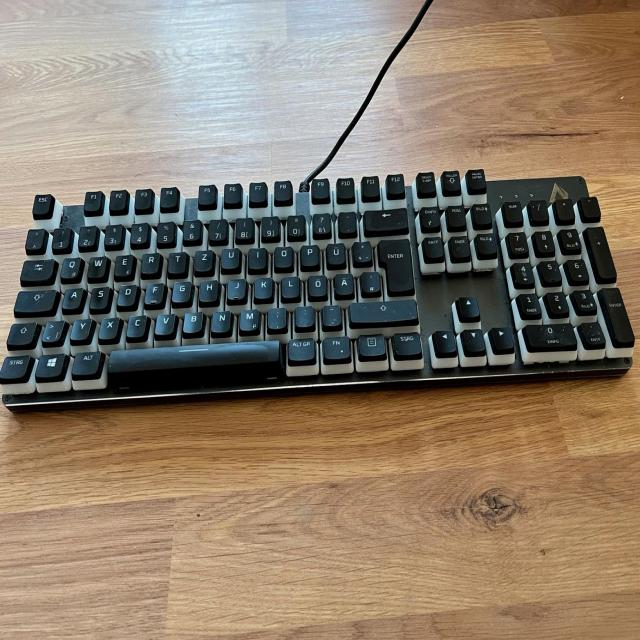0: (285, 213, 306, 239)
1: (50, 225, 71, 250)
2: (77, 224, 98, 248)
3: (103, 222, 124, 247)
4: (129, 221, 149, 245)
5: (155, 220, 175, 245)
6: (181, 218, 202, 242)
7: (207, 217, 228, 241)
8: (234, 215, 254, 242)
9: (260, 214, 281, 240)
a: (60, 284, 84, 310)
accent: (337, 210, 356, 233)
ae: (333, 271, 354, 296)
alt-left: (70, 348, 103, 377)
altgr-right: (286, 335, 316, 362)
b: (182, 310, 204, 333)
c: (125, 313, 148, 337)
caret: (24, 226, 45, 251)
comma: (267, 305, 287, 329)
d: (116, 282, 137, 306)
del: (362, 207, 408, 232)
e: (113, 253, 135, 277)
enter: (375, 235, 414, 293)
f: (143, 280, 164, 304)
g: (171, 279, 192, 302)
h: (198, 277, 219, 302)
hash: (359, 269, 380, 294)
i: (247, 246, 267, 269)
j: (226, 276, 246, 300)
k: (253, 275, 273, 298)
keyboard: (0, 162, 639, 417)
l: (280, 274, 300, 298)
less: (41, 317, 65, 343)
m: (238, 307, 259, 332)
minus: (321, 303, 341, 326)
n: (210, 309, 232, 333)
o: (273, 245, 293, 268)
oe: (306, 273, 327, 297)
p: (299, 243, 319, 266)
plus: (351, 239, 372, 263)
point: (294, 304, 314, 327)
q: (59, 255, 83, 279)
r: (139, 250, 161, 274)
s: (88, 283, 110, 309)
shift-left: (5, 319, 36, 345)
shift-lock: (13, 287, 56, 313)
shift-right: (347, 298, 418, 323)
space: (107, 339, 282, 391)
ss: (312, 212, 331, 236)
strg-left: (0, 352, 31, 379)
strg-right: (389, 330, 423, 360)
t: (167, 250, 187, 273)
tab: (19, 257, 54, 281)
u: (220, 246, 241, 269)
ue: (325, 241, 345, 264)
v: (154, 312, 176, 334)
w: (86, 254, 108, 279)
x: (98, 315, 120, 340)
y: (69, 317, 92, 340)
z: (193, 248, 214, 272)
